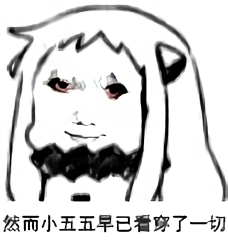dragon: (44, 69, 132, 142)
